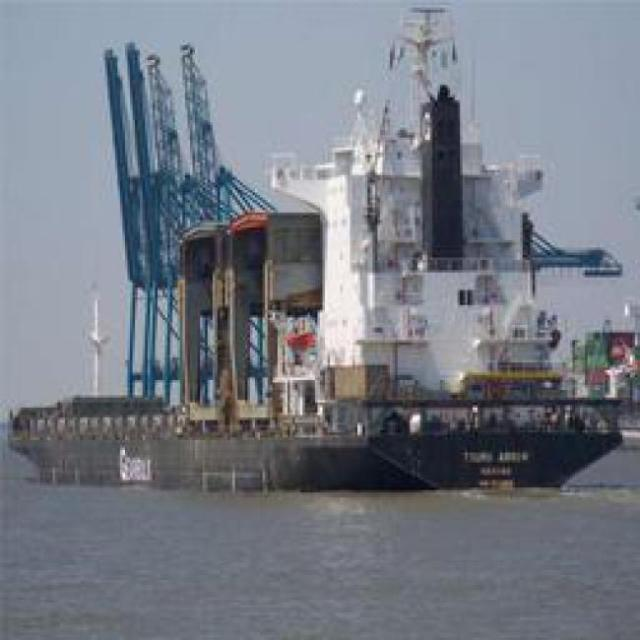boat: (14, 310, 620, 496)
